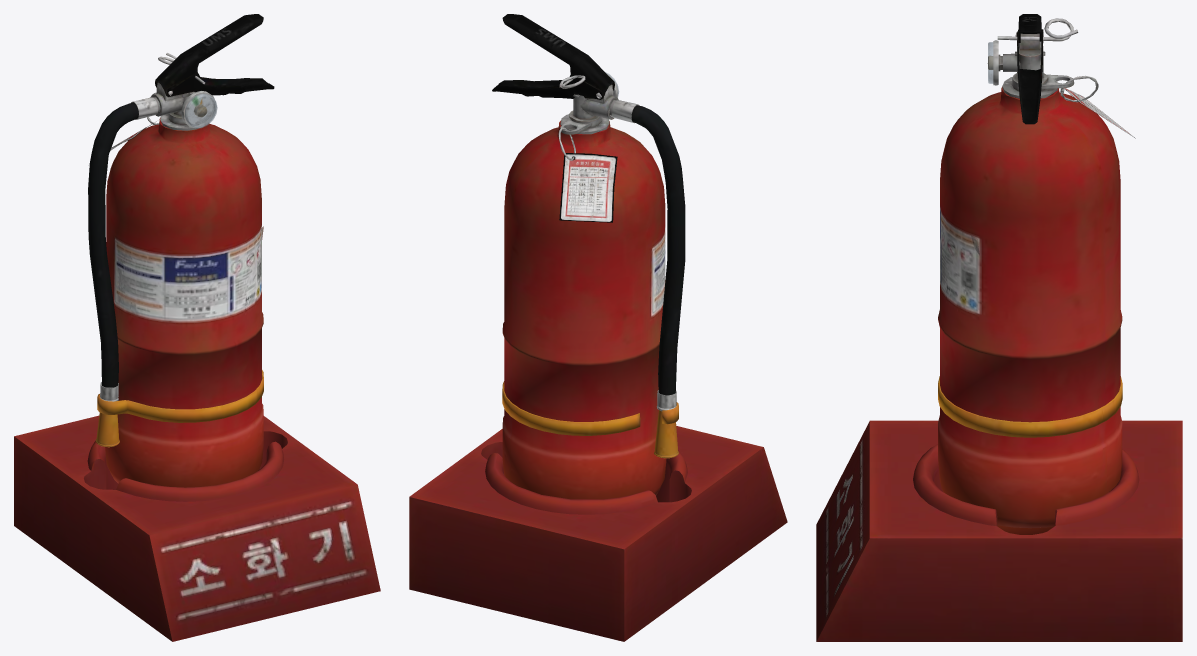
Rendered from korean-fire-extinguisher-01.glb.
The picture shows the model from 3 angles, left to right: view 1: azimuth 30°, elevation 25°; view 2: azimuth 150°, elevation 25°; view 3: azimuth 270°, elevation 25°; orthographic projection. The views are drawn at different scales.
Parts seen in each view (by area): view 1: korean_fire_extinguisher_01; view 2: korean_fire_extinguisher_01; view 3: korean_fire_extinguisher_01.
Boxes of the visible parts, x1,y1,x2,y2 form: korean_fire_extinguisher_01: [14, 14, 380, 641]; korean_fire_extinguisher_01: [409, 14, 787, 641]; korean_fire_extinguisher_01: [816, 14, 1182, 641].
Bounding box in the file's own units: 0.279 × 0.6591 × 0.3674.
3 materials, 3 textured.
